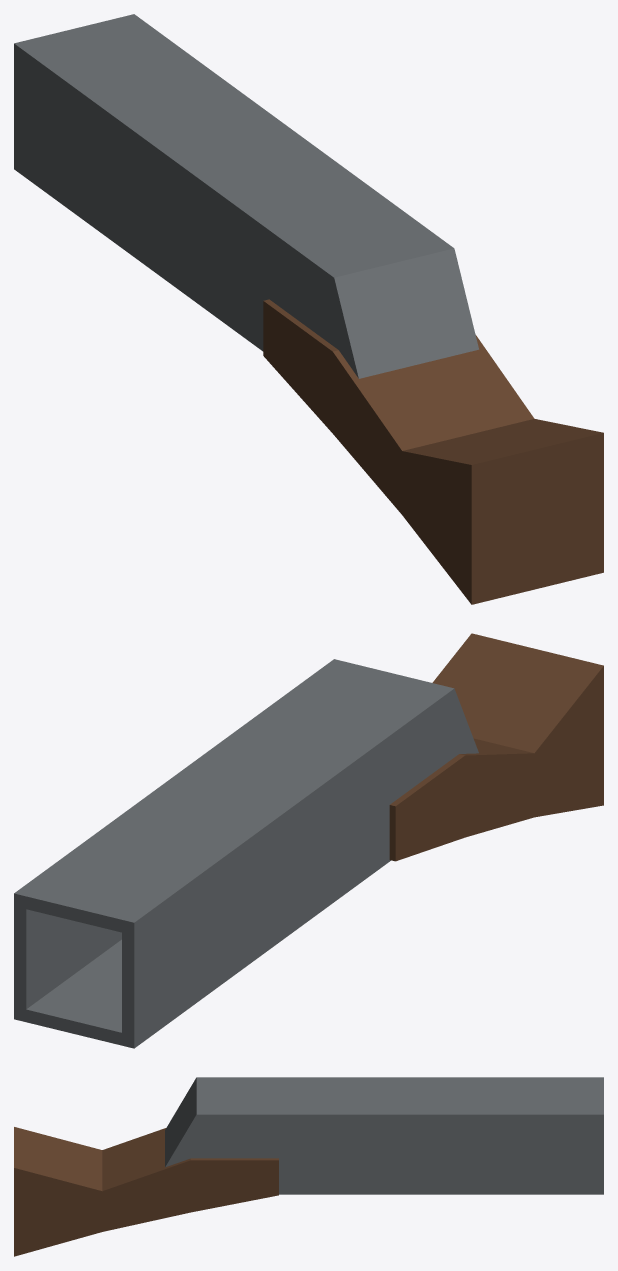
Rendered from Rifle.fbx.
3 renders of one model, top to bottom at view 1: azimuth 30°, elevation 25°; view 2: azimuth 150°, elevation 25°; view 3: azimuth 270°, elevation 25°, orthographic. The views are drawn at different scales.
Visible parts, largest first — view 1: GunStock; view 2: GunStock; view 3: GunStock.
Boxes of the visible parts, left/top/right/bottom form: GunStock: left=14, top=14, right=603, bottom=604; GunStock: left=14, top=633, right=603, bottom=1048; GunStock: left=14, top=1077, right=603, bottom=1256.
Size of the model in its own units: 22 by 35.06 by 134.
